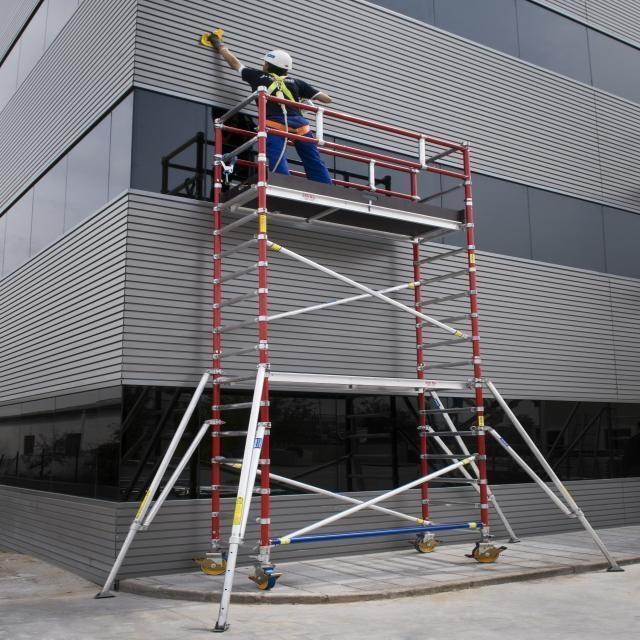Arnes_seguridad: (262, 70, 310, 138)
